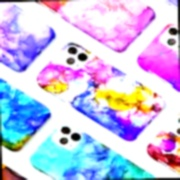iphone: (16, 42, 144, 143)
